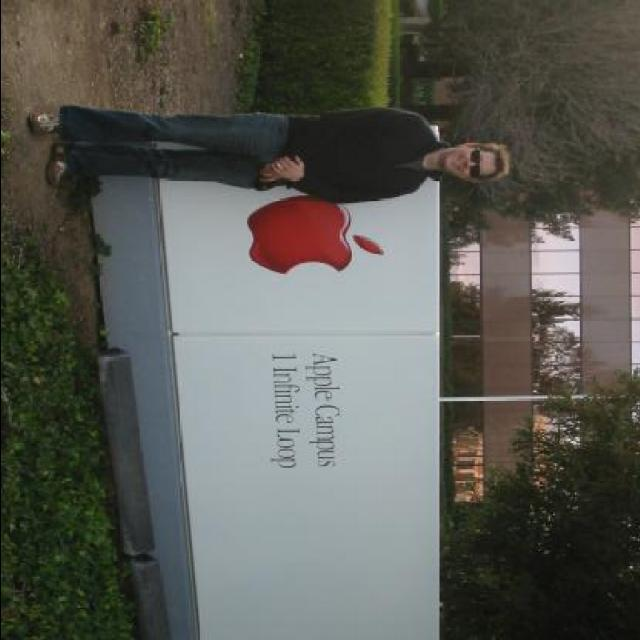Apple pie: (231, 198, 343, 282)
